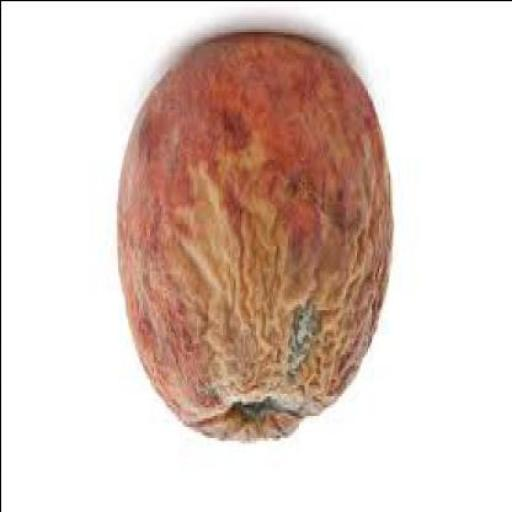biodegradable: (114, 36, 392, 448)
